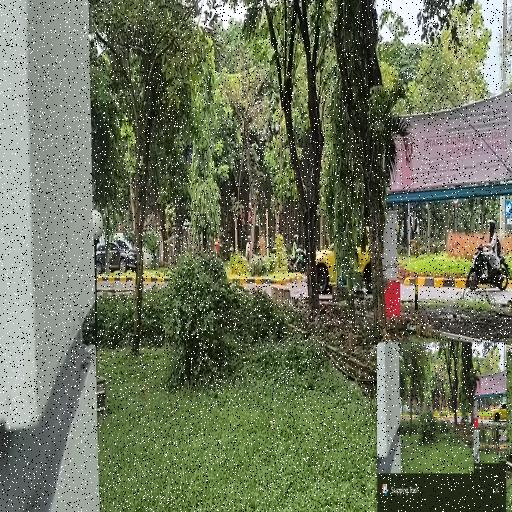Helmet: (488, 219, 495, 227), (294, 234, 298, 239), (248, 236, 250, 240)
Motor: (467, 244, 509, 290), (288, 248, 306, 273)
